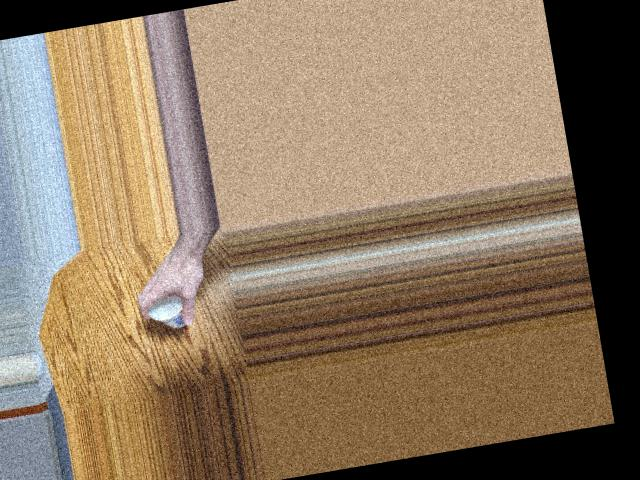cotage: (146, 289, 198, 331)
